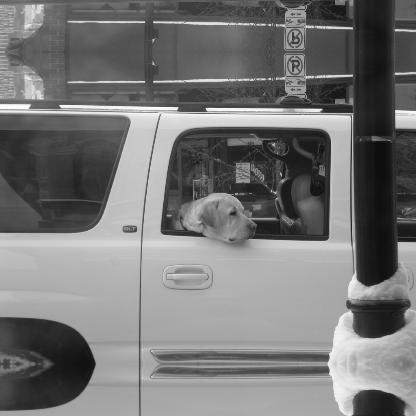Dog: (164, 192, 256, 244)
